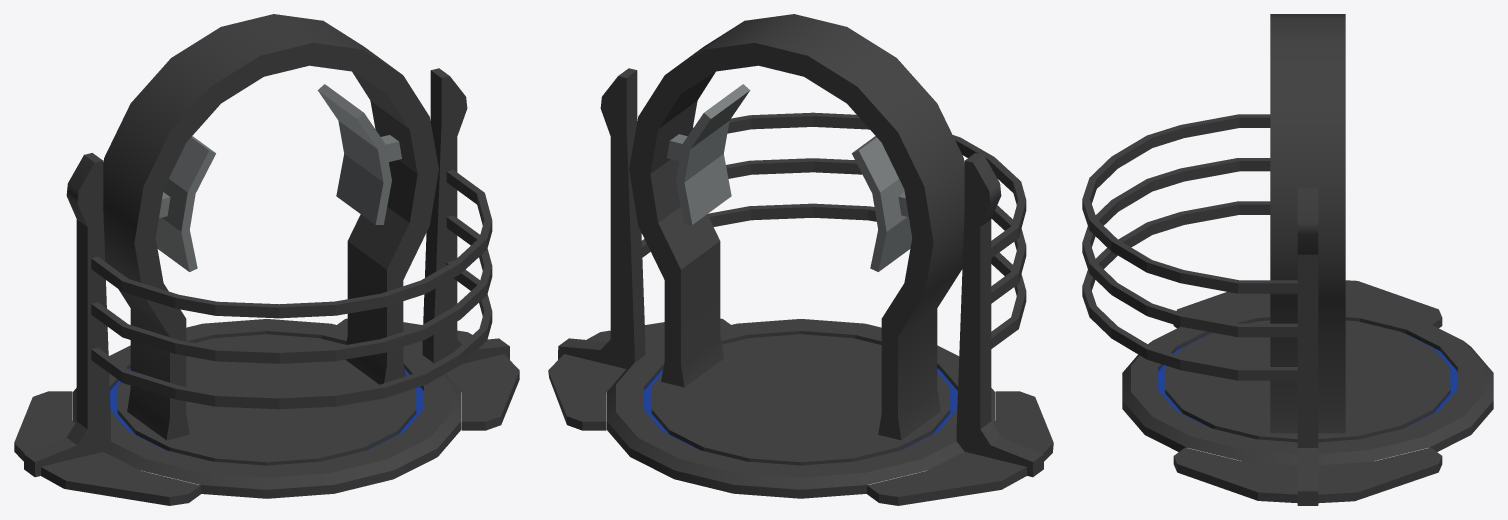
File: Teleporter Pad.fbx
3 views of the same model, side by side, from view 1: azimuth 30°, elevation 25°; view 2: azimuth 150°, elevation 25°; view 3: azimuth 270°, elevation 25° (orthographic). The views are drawn at different scales.
Visible parts, largest first — view 1: Teleporter_Pad; view 2: Teleporter_Pad; view 3: Teleporter_Pad.
Boxes of the visible parts, x1=… form: Teleporter_Pad: x1=14, y1=14, x2=519, y2=505; Teleporter_Pad: x1=548, y1=14, x2=1053, y2=505; Teleporter_Pad: x1=1082, y1=14, x2=1493, y2=505.
Bounding box in the file's own units: 3.02 × 2.31 × 2.37.
